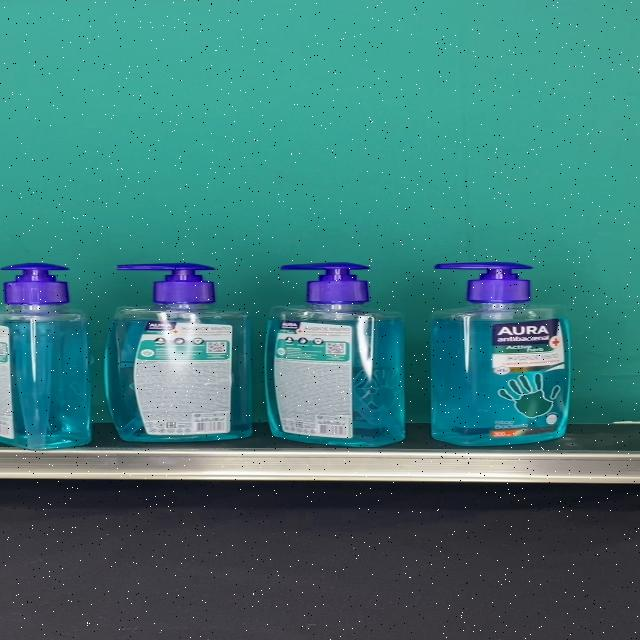Bottle: (104, 264, 253, 442), (263, 263, 406, 448), (429, 262, 569, 446), (0, 262, 91, 450)
Cap: (431, 262, 532, 304), (116, 264, 215, 305), (279, 263, 371, 305), (0, 262, 71, 304)
